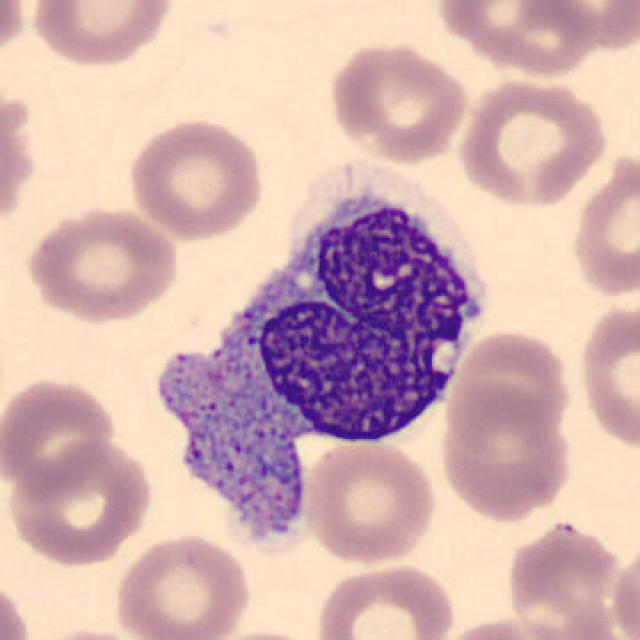Monocyte: (167, 166, 498, 460)
RBC: (454, 74, 612, 210), (21, 201, 183, 326), (3, 436, 156, 568), (437, 384, 576, 526), (325, 39, 473, 166), (124, 115, 268, 242), (299, 437, 439, 566), (441, 326, 576, 453), (110, 530, 254, 640), (501, 516, 627, 640), (0, 374, 119, 499), (432, 0, 602, 79), (311, 560, 457, 640), (567, 146, 638, 302), (26, 0, 178, 71), (574, 298, 638, 455), (524, 2, 640, 53), (0, 82, 40, 218), (437, 613, 556, 640), (608, 539, 638, 640), (0, 0, 32, 72), (0, 575, 34, 640), (27, 626, 151, 640)
